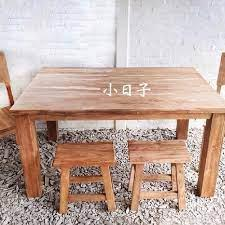desk: (16, 42, 219, 196)
